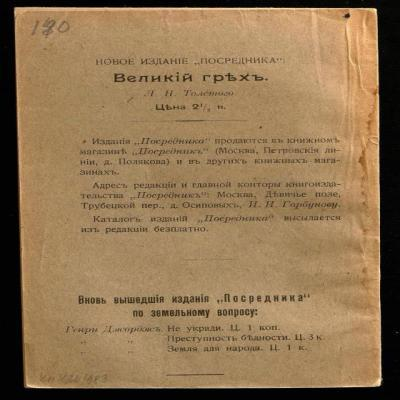rare_books: (14, 7, 400, 392)
